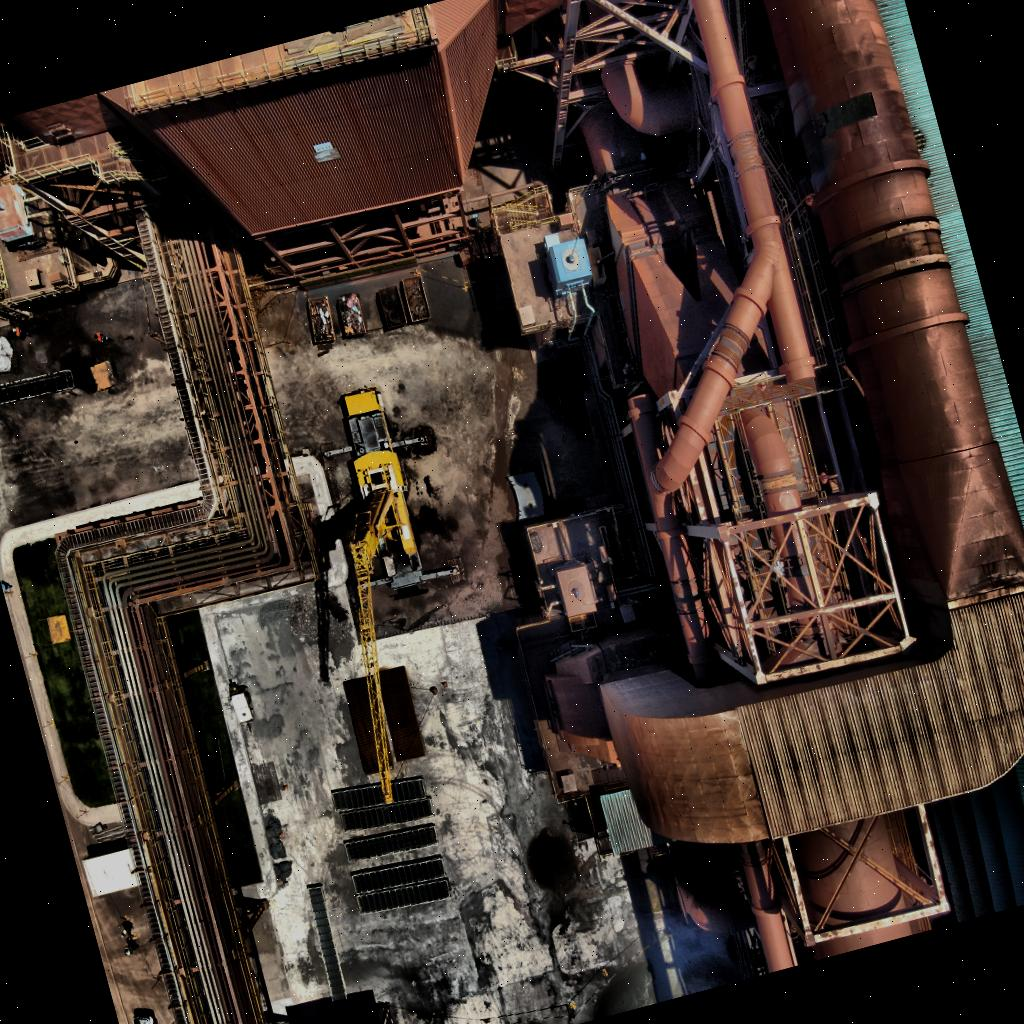Failures: (786, 84, 888, 174)
